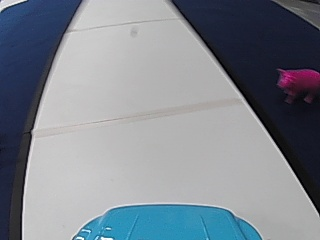pig: (273, 65, 317, 104)
